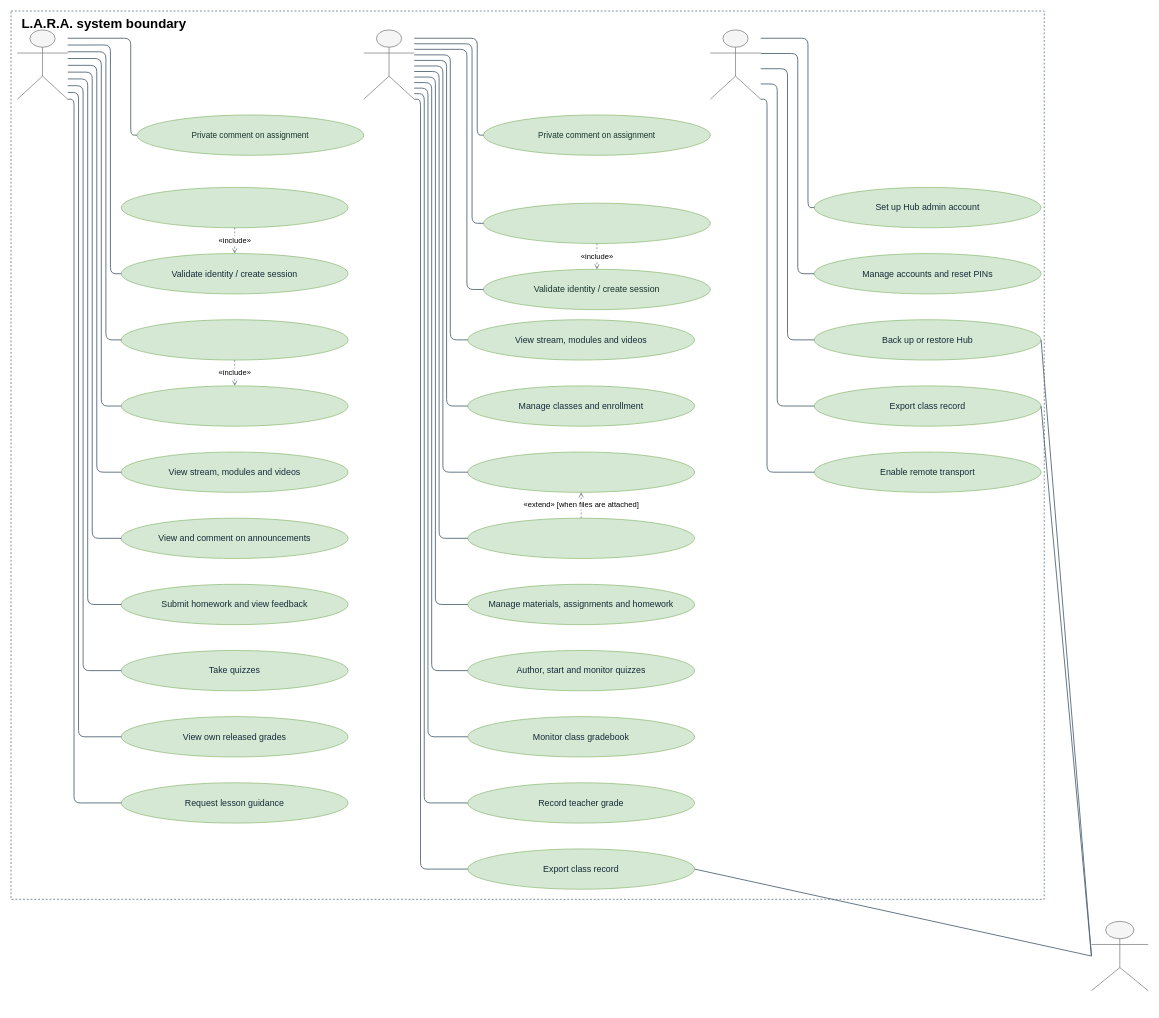
The diagram is 1159 pixels wide and 1018 high, and some of its shapes have lost their labels. Here are the shapes that lost their labels. From the top down, the box of each, then its label:
(17, 29, 68, 99): Learner
(363, 29, 414, 99): Teacher
(710, 29, 761, 99): Admin
(121, 187, 348, 228): Sign in with ID/LRN and PIN
(483, 203, 710, 243): Teacher sign in
(121, 319, 348, 360): Request class enrollment
(121, 385, 348, 426): Validate class code
(467, 451, 695, 492): Post announcements and comments
(467, 518, 695, 558): Attach files [optional]
(1091, 921, 1148, 991): USB storage
